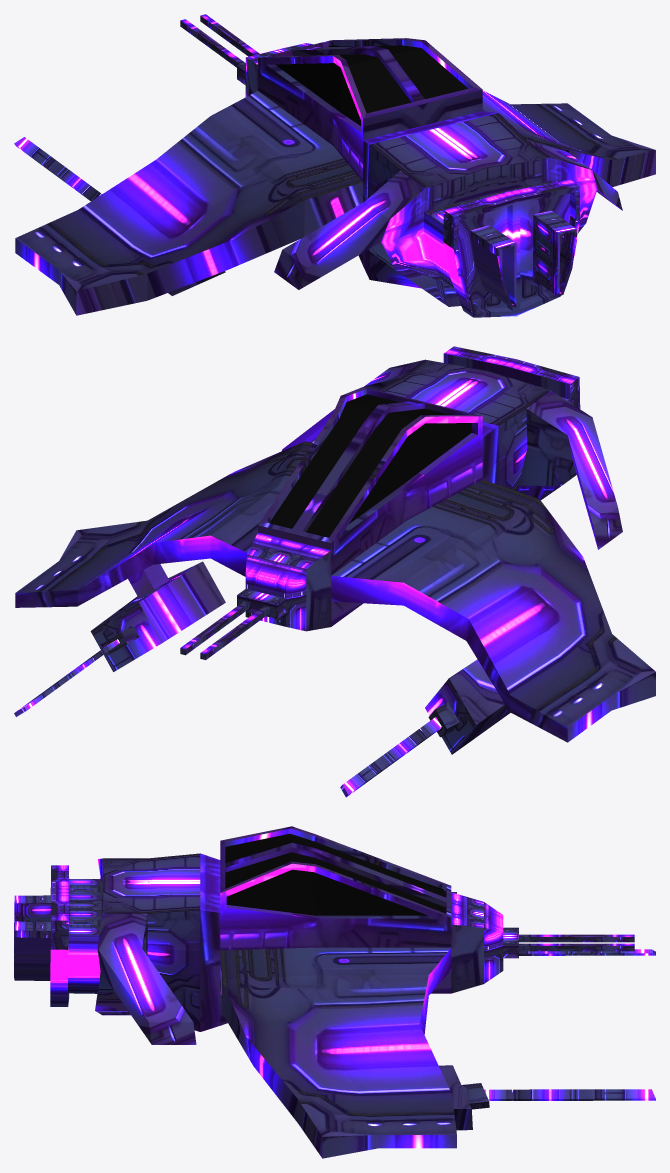
Rendered from Enemy3FBX.fbx.
3 renders of one model, top to bottom at view 1: azimuth 30°, elevation 25°; view 2: azimuth 150°, elevation 25°; view 3: azimuth 270°, elevation 25°, orthographic. The views are drawn at different scales.
Parts seen in each view (by area): view 1: Cube; view 2: Cube; view 3: Cube.
Part boxes in pixels (left/top/right/bottom): Cube: left=14, top=14, right=655, bottom=317; Cube: left=14, top=346, right=655, bottom=797; Cube: left=14, top=826, right=655, bottom=1158.
Size of the model in its own units: 895 by 953 by 345.
2 materials, 1 textured.
